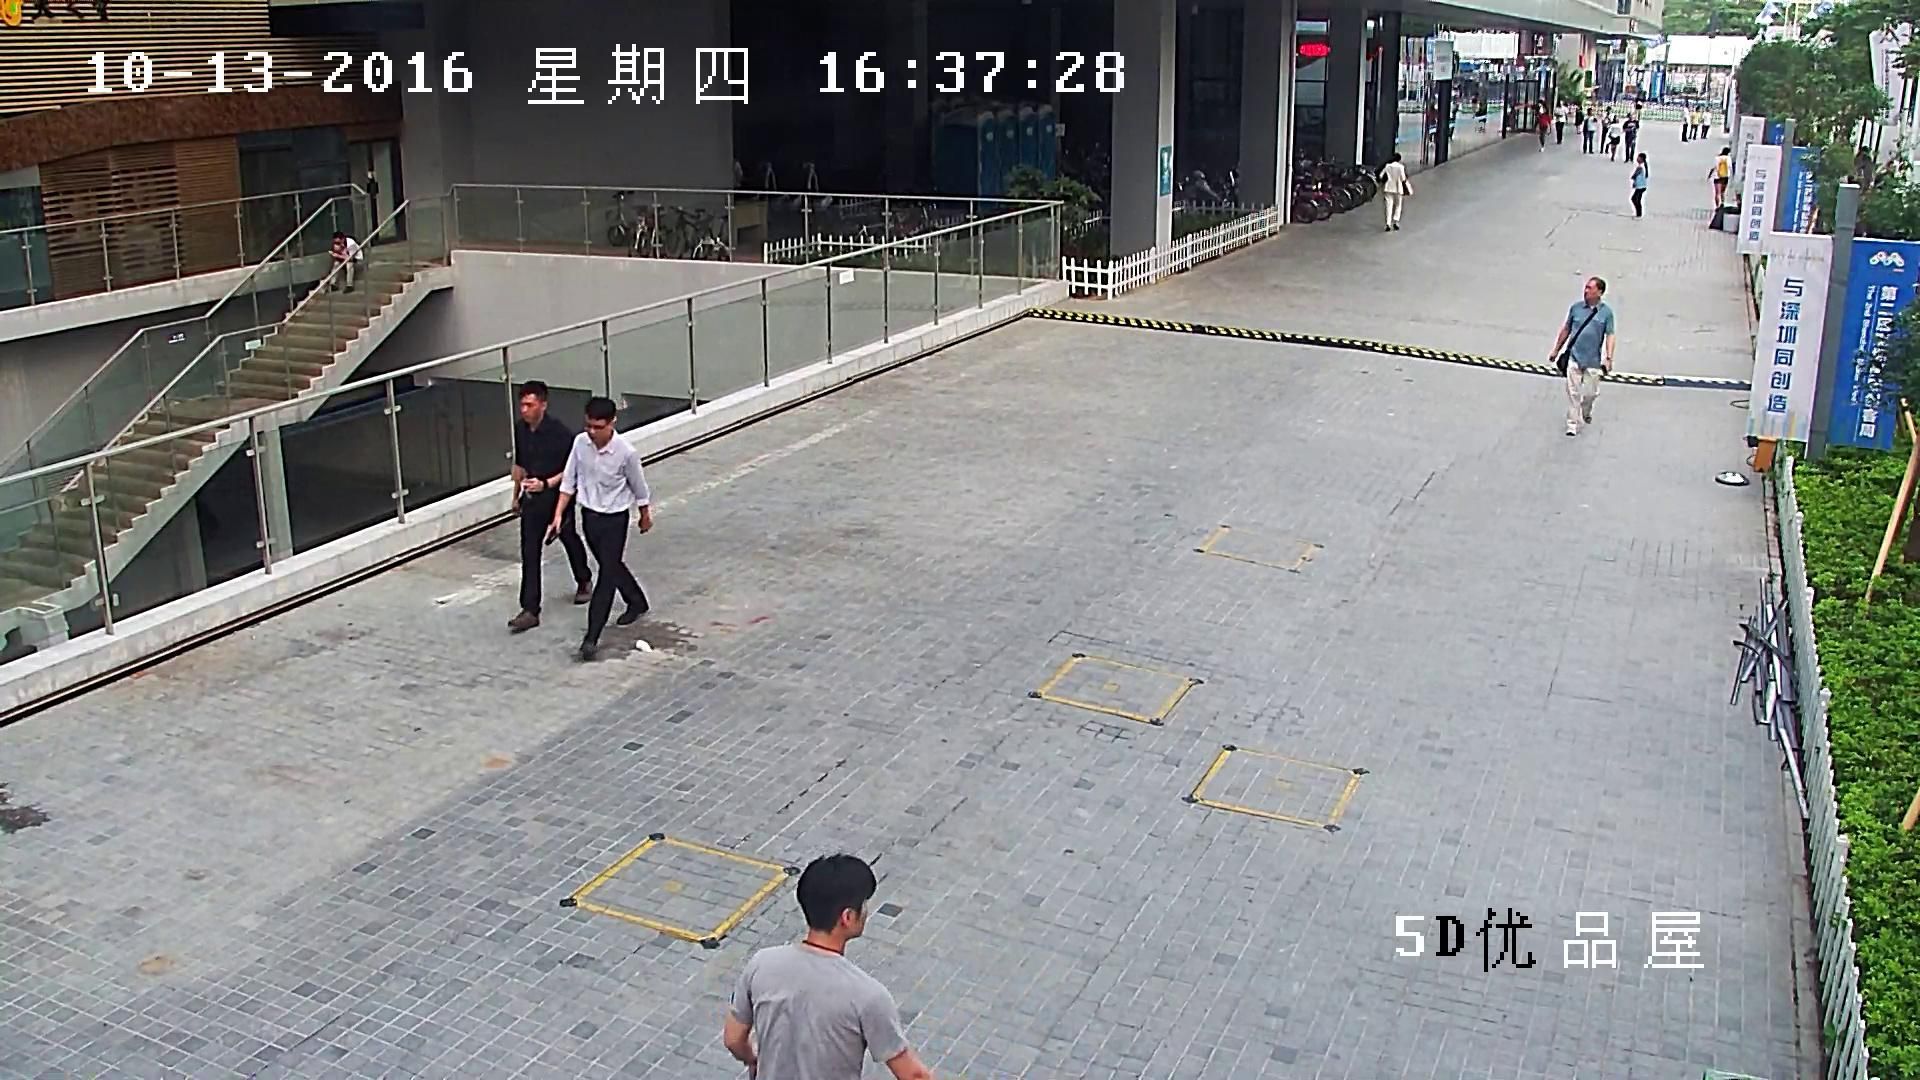person: (720, 857, 939, 1080), (542, 396, 652, 660), (505, 380, 594, 632), (1548, 276, 1614, 438), (1381, 152, 1413, 232), (328, 231, 363, 291), (1708, 147, 1731, 211), (1630, 153, 1647, 219), (1623, 113, 1638, 163), (1582, 108, 1595, 154), (1535, 111, 1550, 152), (1600, 106, 1612, 153), (1555, 99, 1567, 144), (1608, 118, 1620, 160), (1688, 105, 1700, 141), (1701, 106, 1711, 140), (1681, 104, 1690, 142), (1574, 99, 1583, 134)
